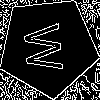W: (23, 21, 73, 74)
